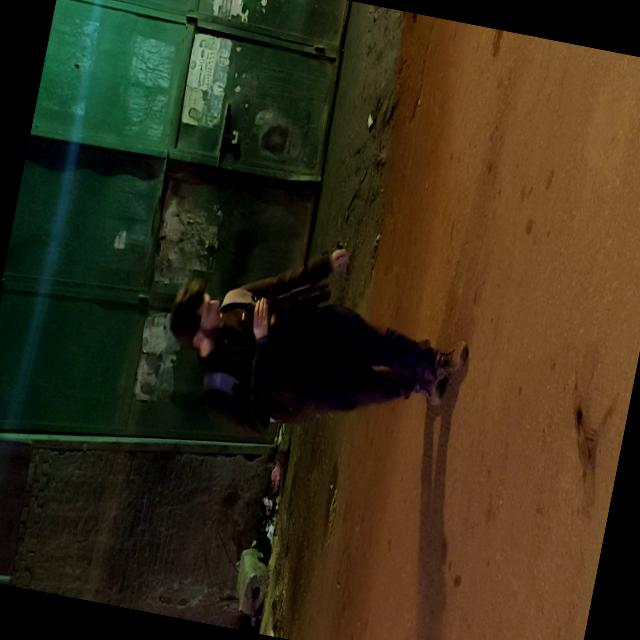long weapon: (230, 250, 340, 349)
